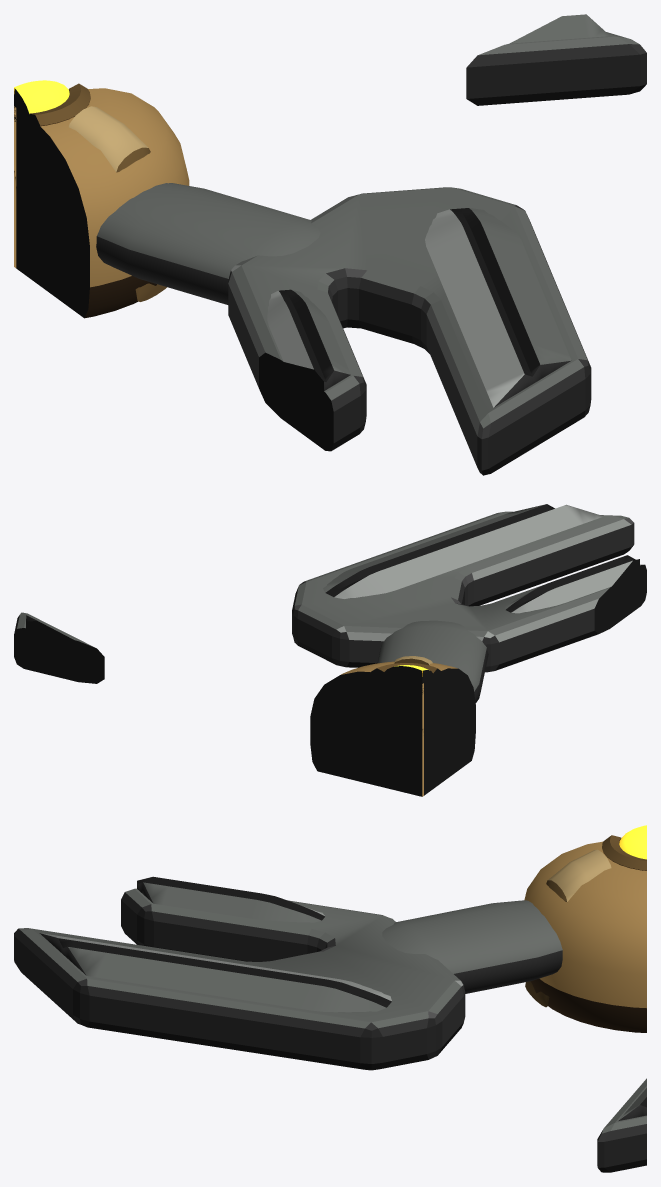
File: spin_claw_45.glb
3 renders of one model, top to bottom at view 1: azimuth 30°, elevation 25°; view 2: azimuth 150°, elevation 25°; view 3: azimuth 270°, elevation 25°, orthographic. The views are drawn at different scales.
Visible parts, largest first — view 1: spin_claw_45_arm2_plate, spin_claw_45_hub_dome, spin_claw_45_arm2_ridge0, spin_claw_45_arm2_rod, spin_claw_45_arm1_plate, spin_claw_45_arm2_ridge1, spin_claw_45_hub_rib2, spin_claw_45_hub_lens, spin_claw_45_arm1_ridge1, spin_claw_45_hub_bezel; view 2: spin_claw_45_arm2_plate, spin_claw_45_hub_dome, spin_claw_45_arm2_ridge0, spin_claw_45_arm2_rod, spin_claw_45_arm1_plate, spin_claw_45_arm2_ridge1, spin_claw_45_hub_lens, spin_claw_45_hub_bezel, spin_claw_45_arm1_ridge1; view 3: spin_claw_45_arm2_plate, spin_claw_45_hub_dome, spin_claw_45_arm2_ridge0, spin_claw_45_arm2_rod, spin_claw_45_arm2_ridge1, spin_claw_45_arm1_plate, spin_claw_45_hub_rib2, spin_claw_45_hub_bezel, spin_claw_45_hub_lens.
Part boxes in pixels (left/top/right/bottom): spin_claw_45_arm2_plate: left=228, top=187, right=591, bottom=475; spin_claw_45_hub_dome: left=14, top=88, right=189, bottom=318; spin_claw_45_arm2_ridge0: left=425, top=208, right=571, bottom=407; spin_claw_45_arm2_rod: left=70, top=183, right=320, bottom=304; spin_claw_45_arm1_plate: left=466, top=32, right=646, bottom=105; spin_claw_45_arm2_ridge1: left=267, top=289, right=350, bottom=400; spin_claw_45_hub_rib2: left=69, top=106, right=166, bottom=301; spin_claw_45_hub_lens: left=14, top=80, right=69, bottom=132; spin_claw_45_arm1_ridge1: left=510, top=14, right=609, bottom=43; spin_claw_45_hub_bezel: left=14, top=83, right=90, bottom=136; spin_claw_45_arm2_plate: left=292, top=511, right=646, bottom=672; spin_claw_45_hub_dome: left=310, top=661, right=475, bottom=796; spin_claw_45_arm2_ridge0: left=323, top=504, right=603, bottom=598; spin_claw_45_arm2_rod: left=377, top=620, right=488, bottom=722; spin_claw_45_arm1_plate: left=14, top=612, right=104, bottom=683; spin_claw_45_arm2_ridge1: left=505, top=555, right=639, bottom=613; spin_claw_45_hub_lens: left=384, top=665, right=433, bottom=693; spin_claw_45_hub_bezel: left=371, top=663, right=440, bottom=692; spin_claw_45_arm1_ridge1: left=26, top=615, right=83, bottom=648; spin_claw_45_arm2_plate: left=14, top=888, right=465, bottom=1070; spin_claw_45_hub_dome: left=524, top=841, right=646, bottom=1032; spin_claw_45_arm2_ridge0: left=39, top=933, right=391, bottom=1012; spin_claw_45_arm2_rod: left=382, top=900, right=562, bottom=993; spin_claw_45_arm2_ridge1: left=137, top=876, right=325, bottom=922; spin_claw_45_arm1_plate: left=597, top=1078, right=646, bottom=1172; spin_claw_45_hub_rib2: left=525, top=849, right=611, bottom=1007; spin_claw_45_hub_bezel: left=602, top=835, right=646, bottom=870; spin_claw_45_hub_lens: left=619, top=825, right=646, bottom=859.
Size of the model in its own units: 21.58 by 6.19 by 23.84.
